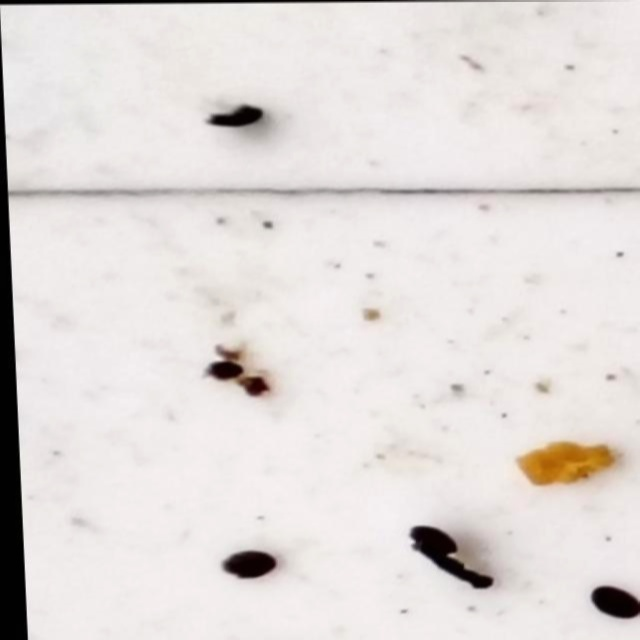varroa: (215, 548, 274, 580), (205, 105, 266, 131), (400, 526, 451, 557)
